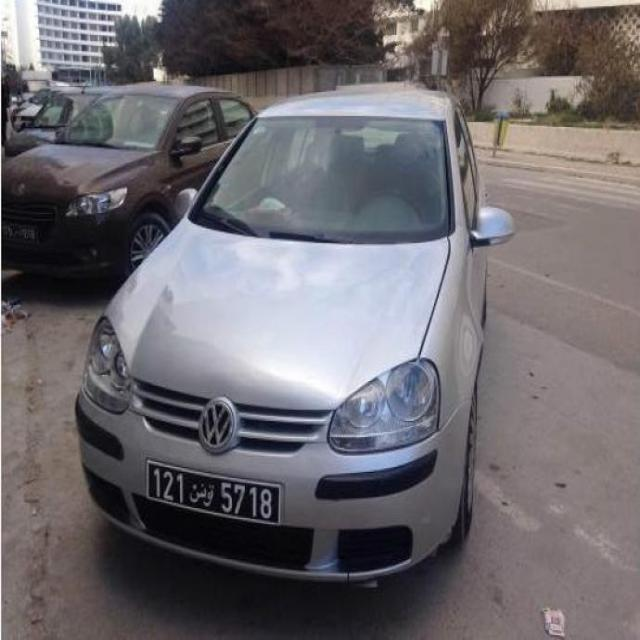LP: (142, 456, 283, 530)
